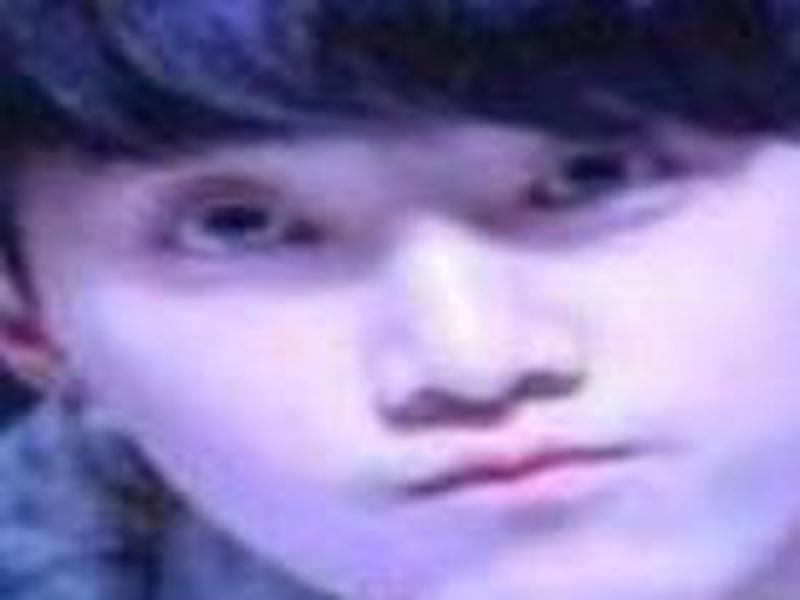without_mask: (17, 74, 800, 600)
